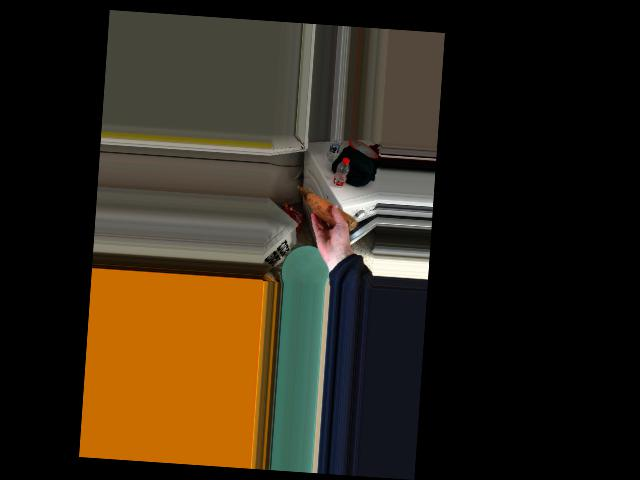sweet_potato: (309, 191, 345, 226)
